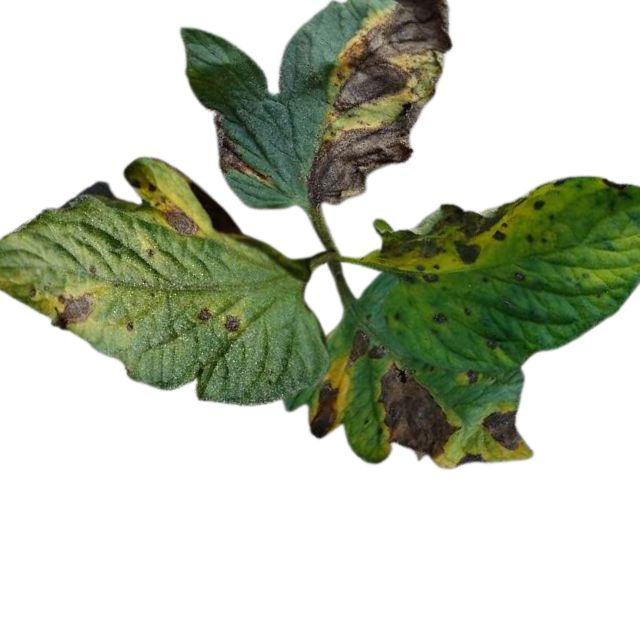Early_blight: (305, 1, 451, 205), (375, 201, 525, 272), (376, 362, 461, 461), (212, 111, 276, 188), (308, 376, 343, 438), (479, 405, 524, 450), (57, 289, 94, 330), (347, 328, 385, 366), (161, 201, 199, 238), (128, 175, 158, 193), (455, 450, 485, 466), (223, 312, 243, 332), (429, 310, 451, 325), (603, 177, 626, 191), (194, 305, 211, 321), (465, 366, 478, 384), (533, 195, 545, 212), (424, 272, 440, 282), (514, 272, 527, 282), (488, 334, 497, 345)
